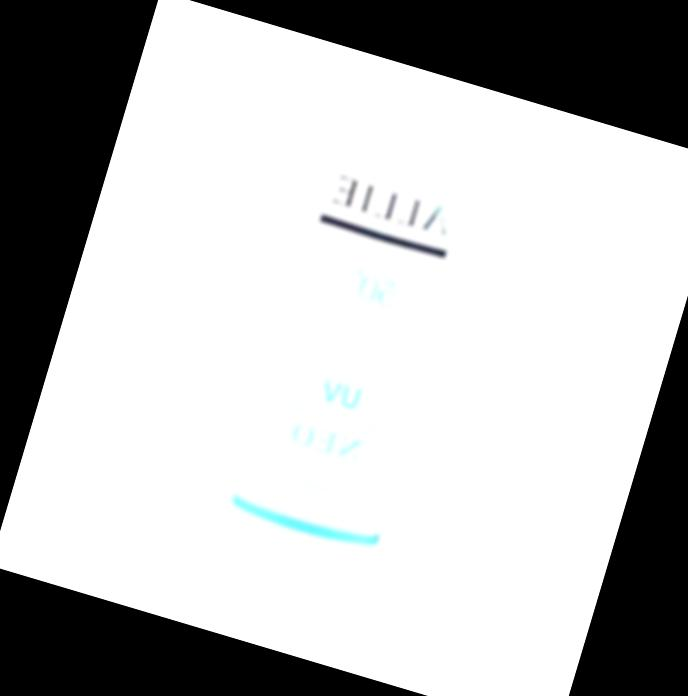cosmetic: (174, 75, 530, 642)
